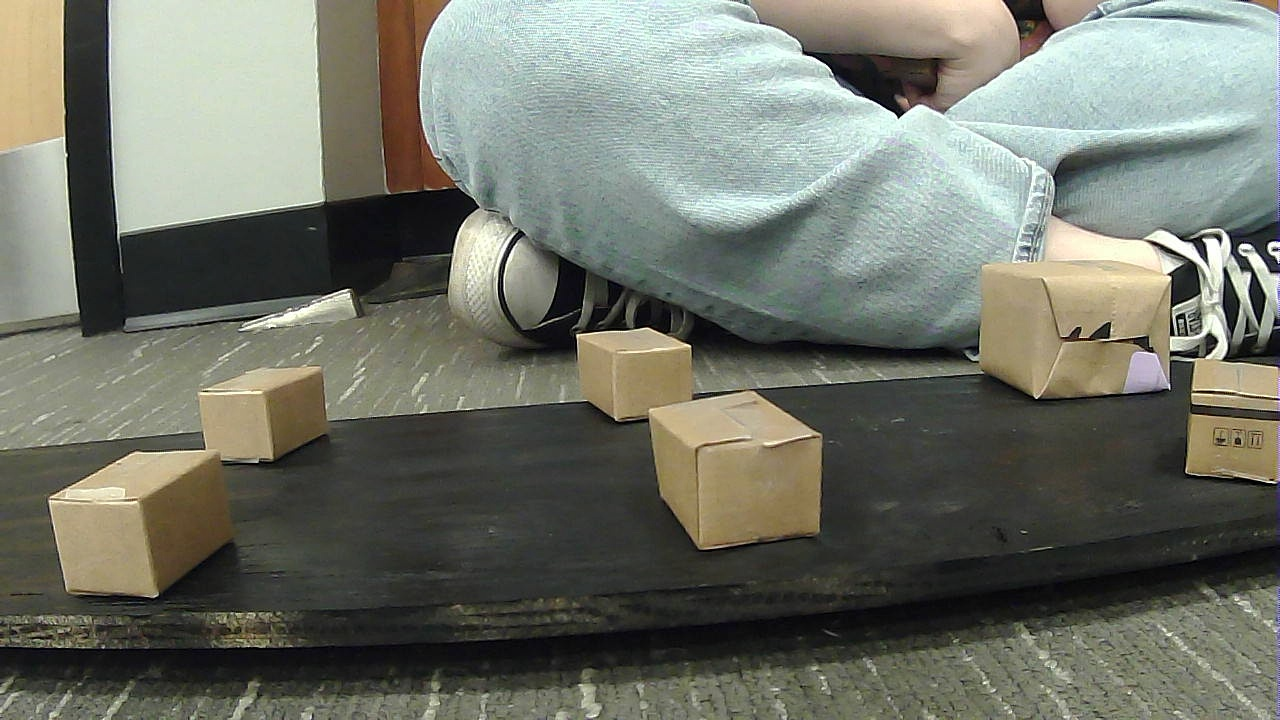package: (39, 432, 286, 610), (957, 251, 1176, 403), (624, 389, 834, 538), (550, 316, 729, 436), (188, 357, 355, 449), (1184, 348, 1273, 498)
